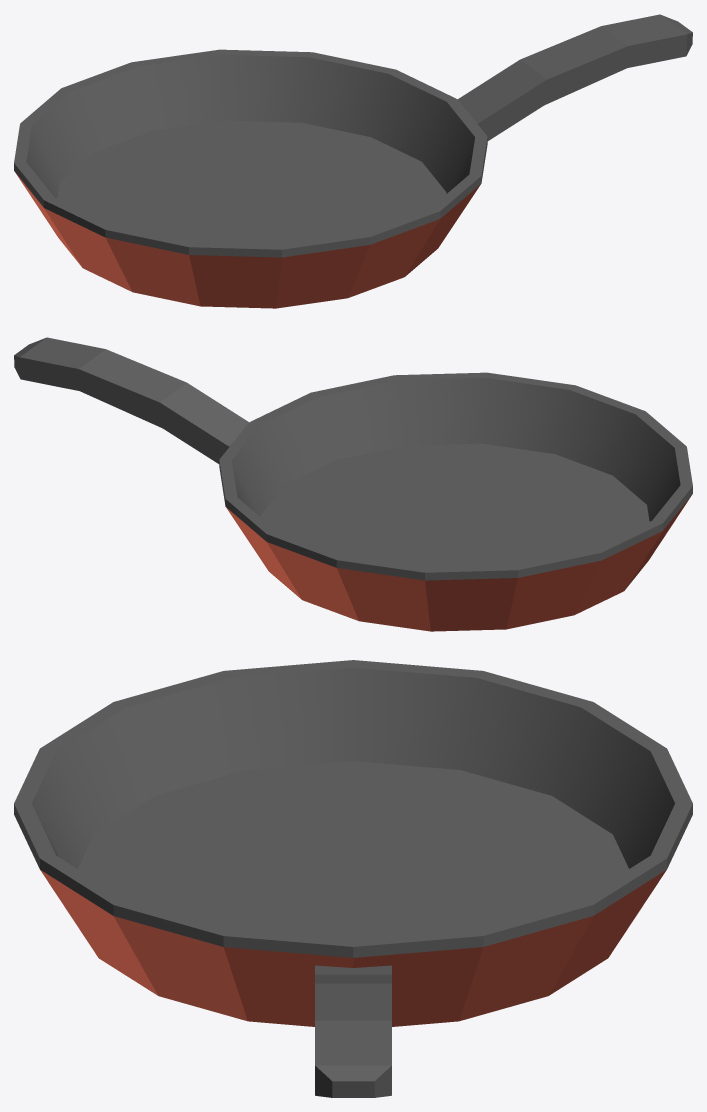
The model's file is SM_Prop_Pan_02.fbx.
3 views of the same model, one above another, from view 1: azimuth 30°, elevation 25°; view 2: azimuth 150°, elevation 25°; view 3: azimuth 270°, elevation 25° (orthographic). The views are drawn at different scales.
Parts seen in each view (by area): view 1: Cylinder; view 2: Cylinder; view 3: Cylinder.
Part boxes in pixels (box(x1,y1,x2,y2)): Cylinder: box(14, 14, 692, 308); Cylinder: box(14, 337, 692, 631); Cylinder: box(14, 660, 692, 1097).
Bounding box in the file's own units: 68.73 × 10.48 × 44.32.
